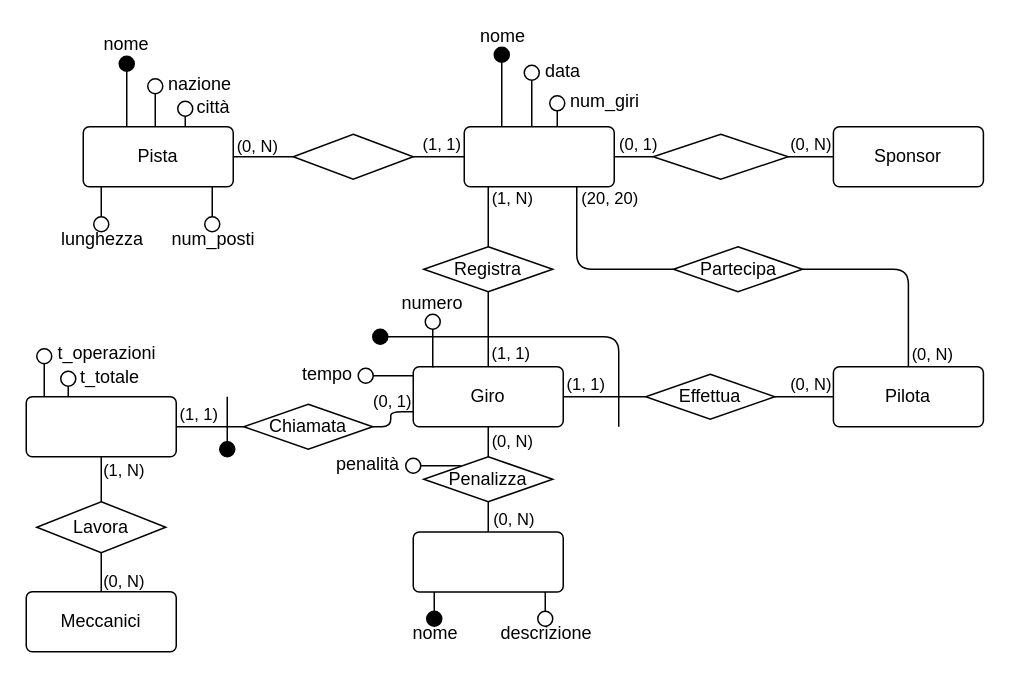
Image size: 1011x678. Some labels were removed from this diagram. The centre of each missing label's shape, as x and y in pixels:
"Gara" goes at point 538,156.
"Infrazione" goes at point 487,561.
"Pit stop" goes at point 100,426.
"Promuove" goes at point 720,156.
"Svolge" goes at point 352,156.
